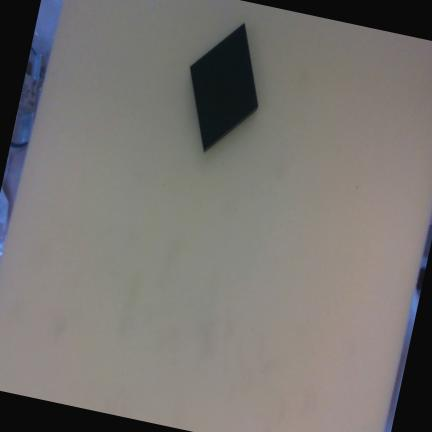tile: (184, 23, 264, 151)
